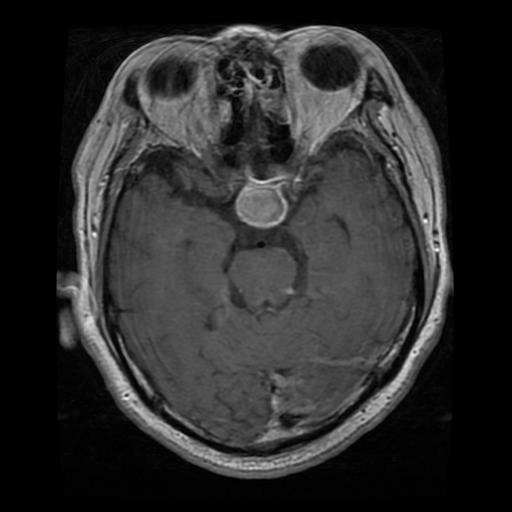Tumour-Pituitary: (234, 169, 291, 230)
